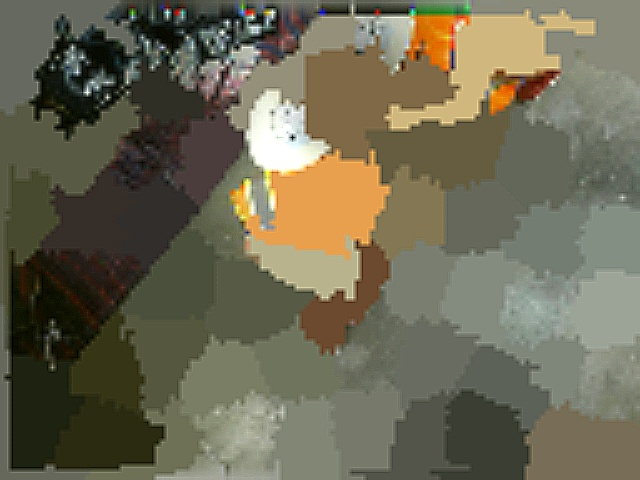two: (260, 90, 314, 146)
